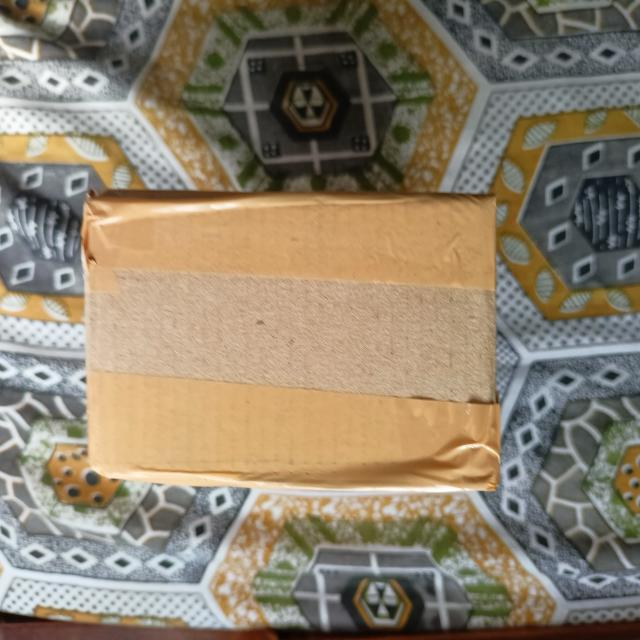box: (85, 195, 496, 485)
